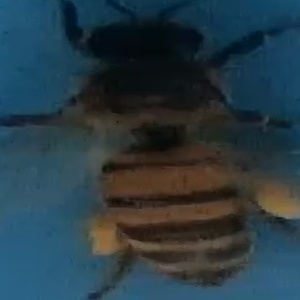bee: (40, 4, 298, 300)
